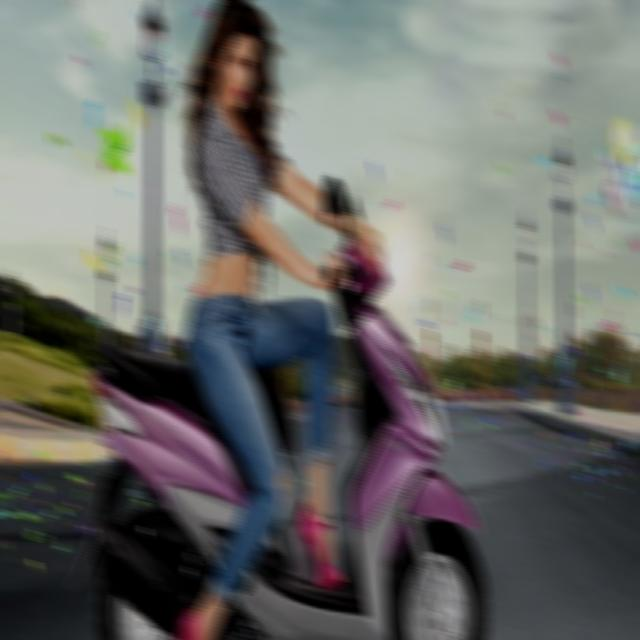Without Helmet: (199, 0, 271, 123)
